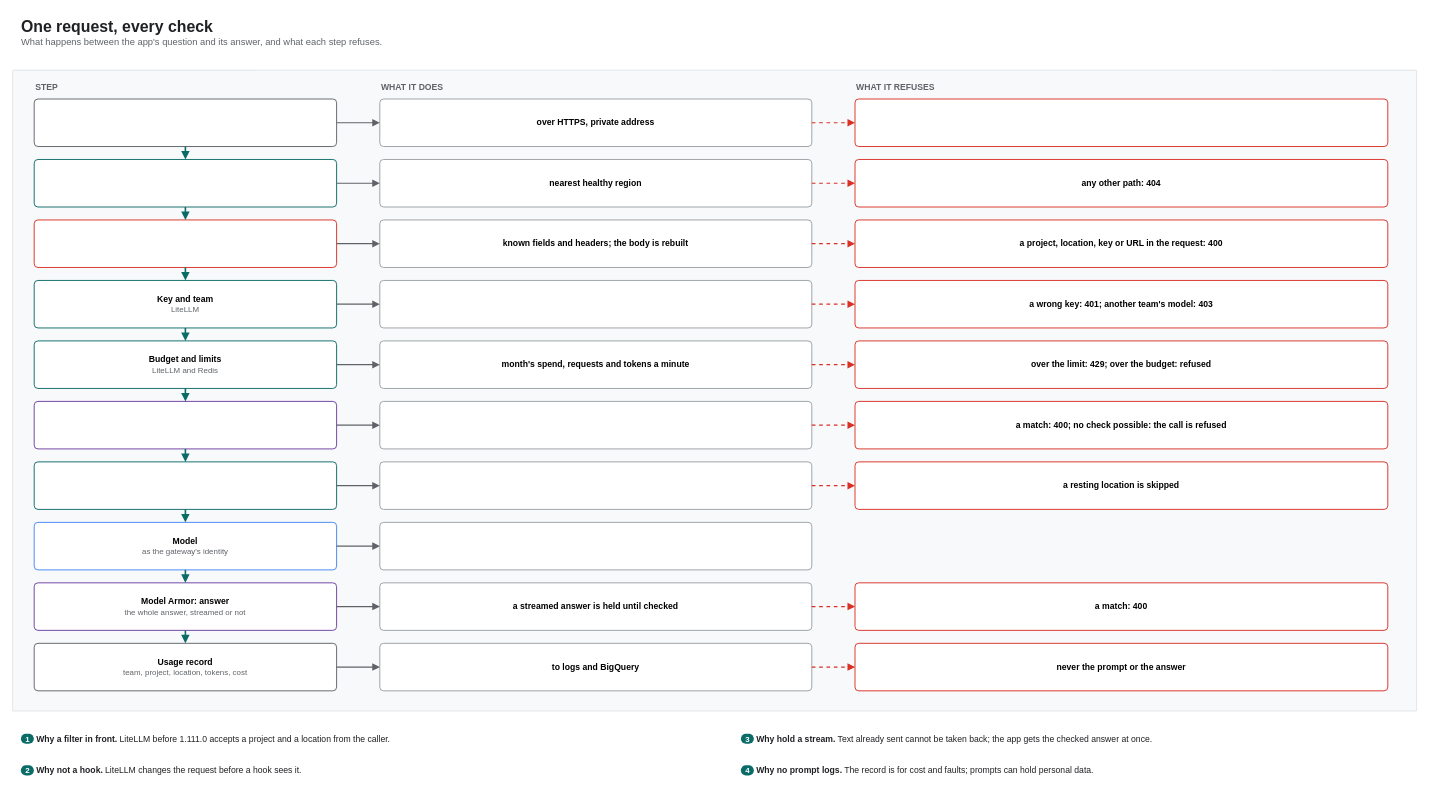
Image size: 1436x804. Some labels were removed from this diagram. The shapes that lost their labels are listed below. From the top down, each one's centre as x and y in pixels, then its label:
At (x=185, y=122): "App key and model name".
At (x=1121, y=122): "a certificate it does not trust".
At (x=185, y=183): "Load balancer inference paths only".
At (x=185, y=243): "Request filter raw request, before LiteLLM".
At (x=595, y=304): "the key names the team and its models".
At (x=185, y=425): "Model Armor: prompt injection, harm, personal data".
At (x=595, y=425): "in the gateway's own region".
At (x=185, y=485): "Router the team's project and location".
At (x=595, y=485): "in the file's order".
At (x=595, y=546): "predict only, in the team's project".
